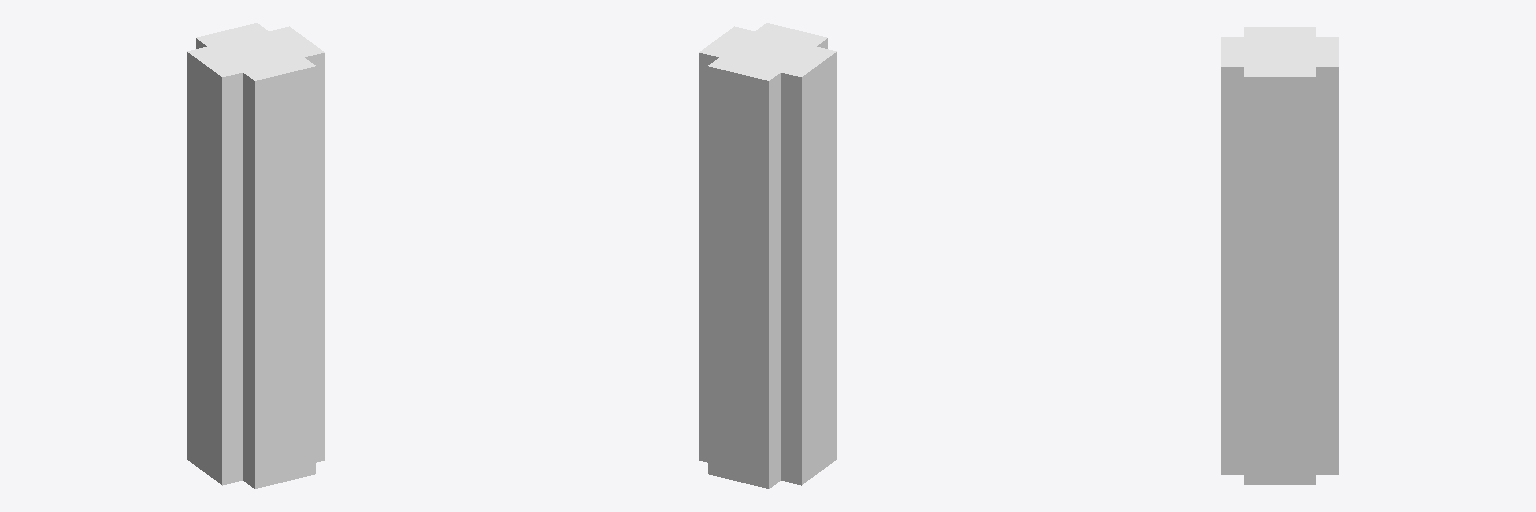
The model's file is human1_arm1.obj.
The picture shows the model from 3 angles: view 1: azimuth 30°, elevation 25°; view 2: azimuth 150°, elevation 25°; view 3: azimuth 270°, elevation 25°; orthographic projection.
Parts seen in each view (by area): view 1: human1_arm1; view 2: human1_arm1; view 3: human1_arm1.
Part boxes in pixels (x1,y1,x2,y2): human1_arm1: (187, 23, 324, 488); human1_arm1: (699, 23, 836, 488); human1_arm1: (1221, 27, 1338, 484).
Bounding box in the file's own units: 5 × 19 × 5.